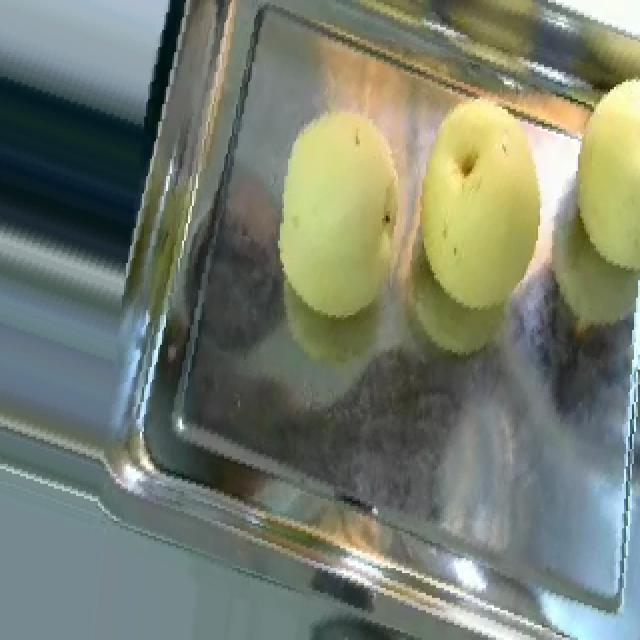Fruit: (250, 54, 550, 344), (548, 47, 640, 303)
